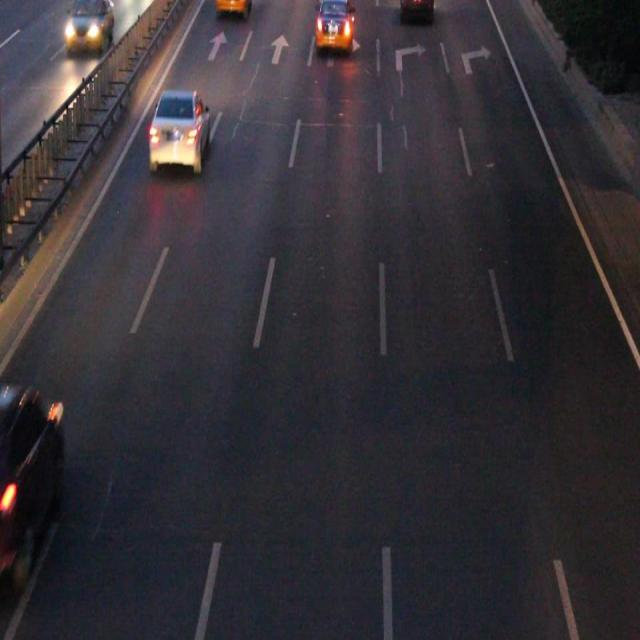car: (0, 381, 64, 564), (151, 92, 210, 170), (316, 1, 352, 46), (400, 1, 432, 20), (215, 1, 248, 18)
